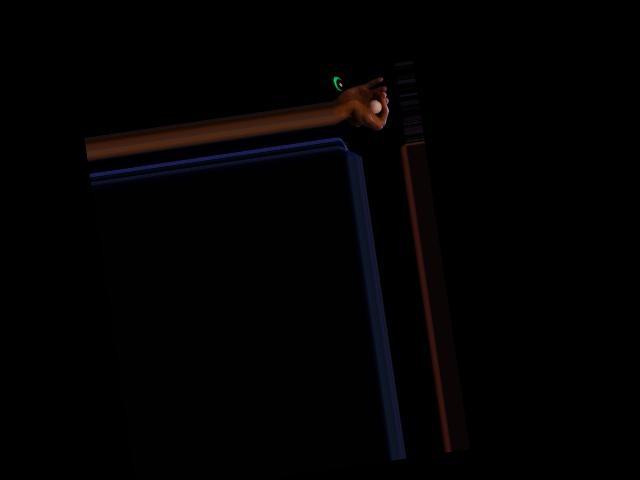egg: (369, 99, 383, 115)
